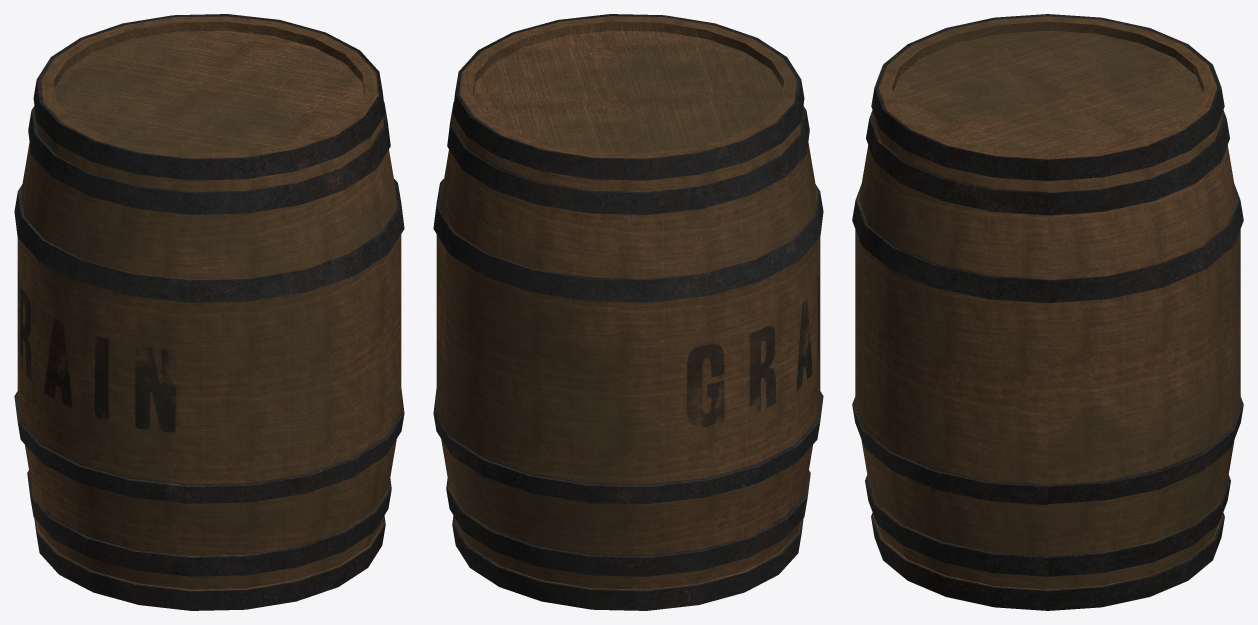
Rendered from barrel.fbx.
3 views of the same model, side by side, from view 1: azimuth 30°, elevation 25°; view 2: azimuth 150°, elevation 25°; view 3: azimuth 270°, elevation 25° (orthographic).
Parts seen in each view (by area): view 1: barrell_UV:barrell; view 2: barrell_UV:barrell; view 3: barrell_UV:barrell.
Boxes of the visible parts, x1,y1,x2,y2 form: barrell_UV:barrell: [14, 14, 404, 610]; barrell_UV:barrell: [433, 14, 823, 610]; barrell_UV:barrell: [852, 14, 1243, 610].
Size of the model in its own units: 10.2 by 12.94 by 10.2.
Materials: 1 (1 with a texture image).
